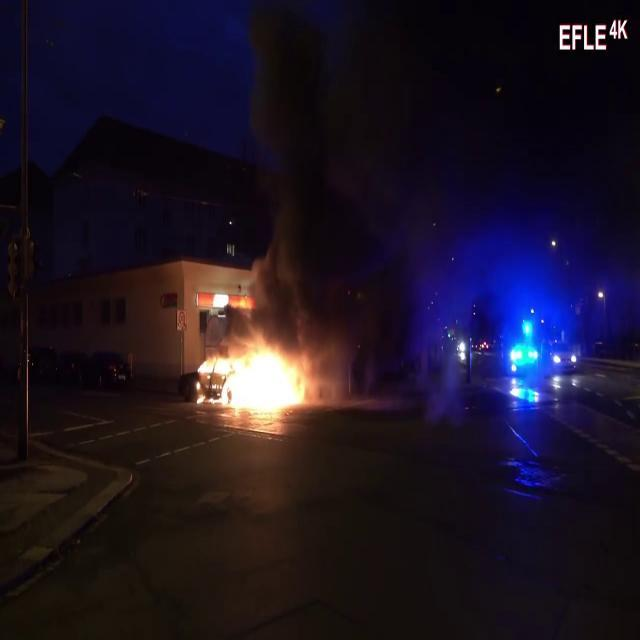Fire: (194, 336, 310, 420)
Smoke: (241, 1, 404, 355)
